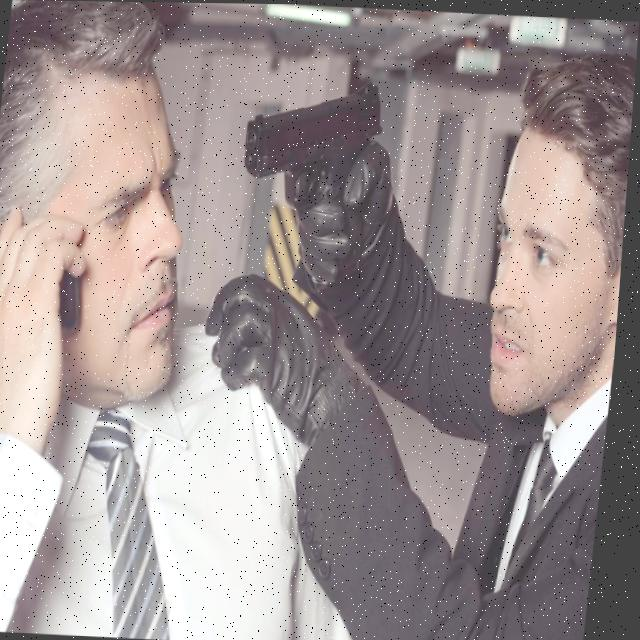pistol: (239, 64, 393, 211)
